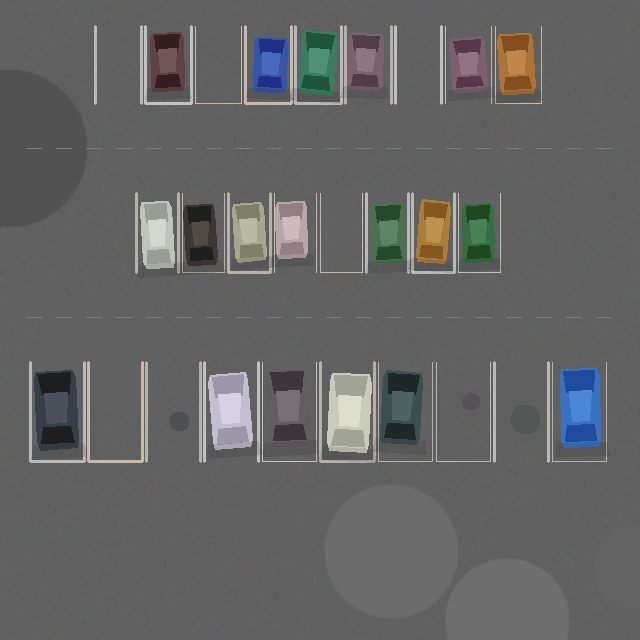space-empty: (88, 362, 142, 461), (146, 362, 200, 461), (436, 362, 490, 461), (494, 362, 548, 461), (95, 26, 141, 103), (195, 26, 241, 103), (395, 26, 441, 103), (320, 193, 362, 272)
space-occupied: (30, 362, 84, 461), (204, 362, 258, 461), (262, 362, 316, 461), (320, 362, 374, 461), (378, 362, 432, 461), (552, 362, 606, 461), (145, 26, 191, 103), (245, 26, 291, 103), (295, 26, 341, 103), (345, 26, 391, 103), (445, 26, 491, 103), (495, 26, 541, 103), (136, 193, 178, 272), (182, 193, 224, 272), (228, 193, 270, 272), (274, 193, 316, 272), (366, 193, 408, 272), (412, 193, 454, 272), (458, 193, 500, 272)
